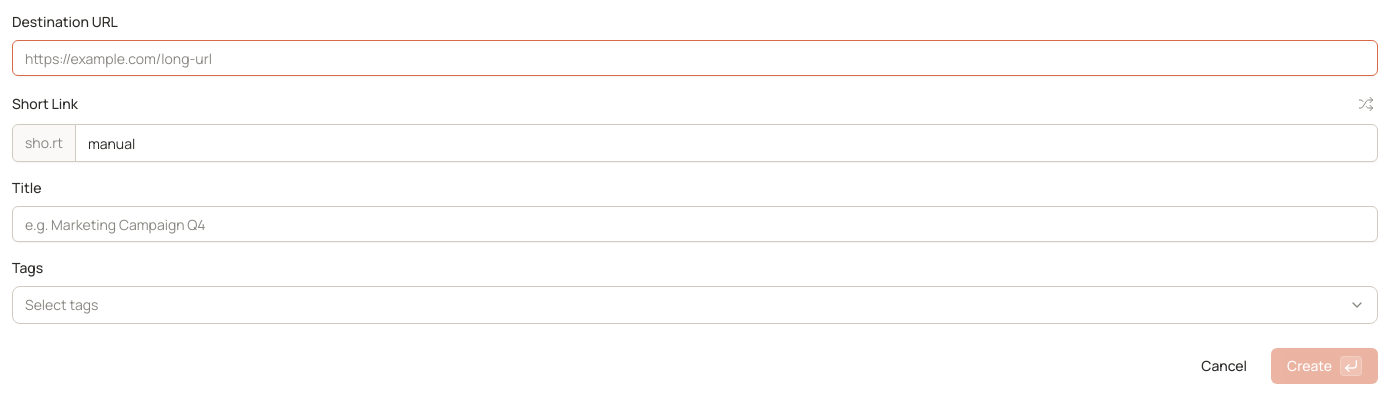
Scenario: LinkFormFields › short key generation › generates a new key when the user empties the field and leaves it
Clear the field labelled "Short Link": (726, 143) [76,125,1377,161]
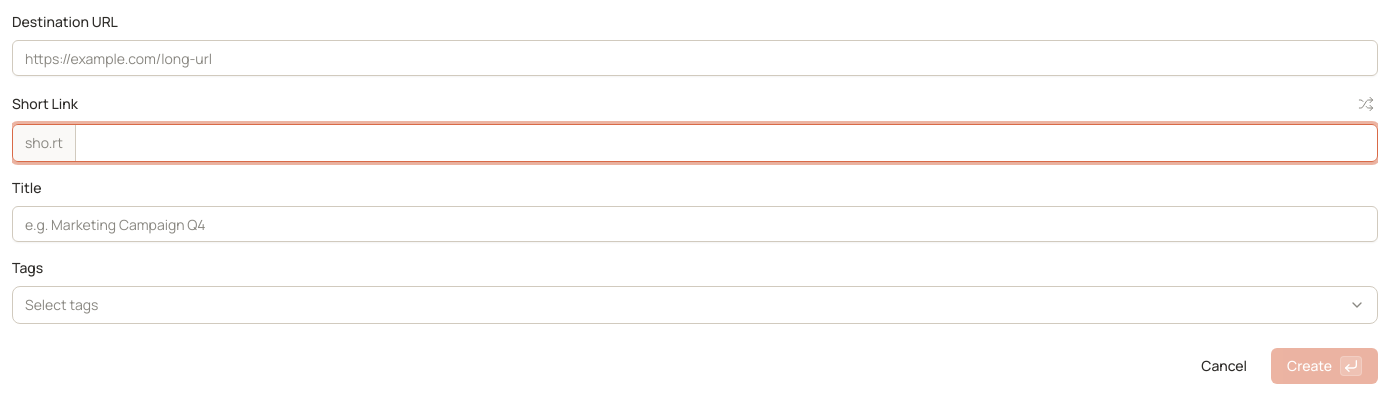
Press Tab
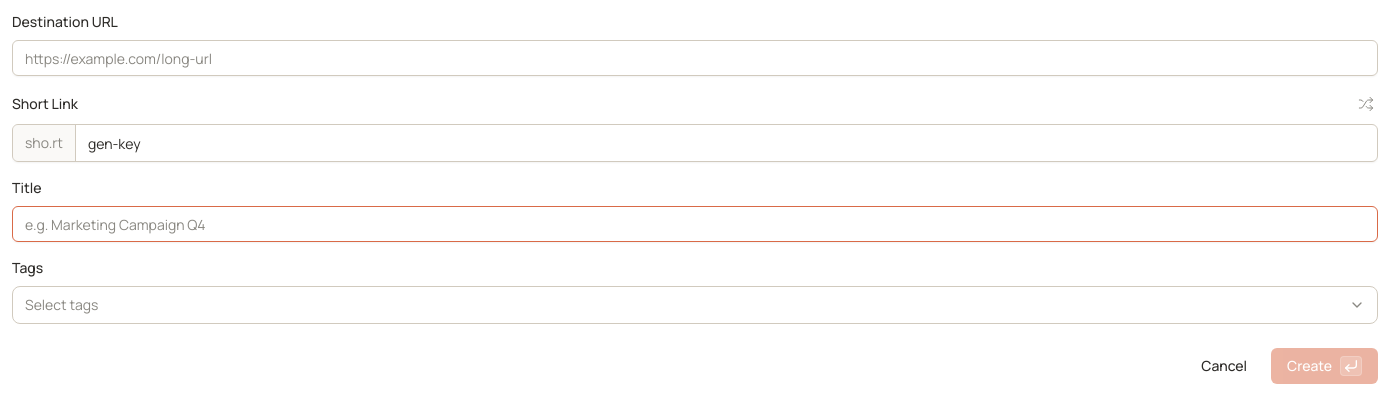
Now the field labelled "Short Link" holds "gen-key", box [76,125,1377,161]
